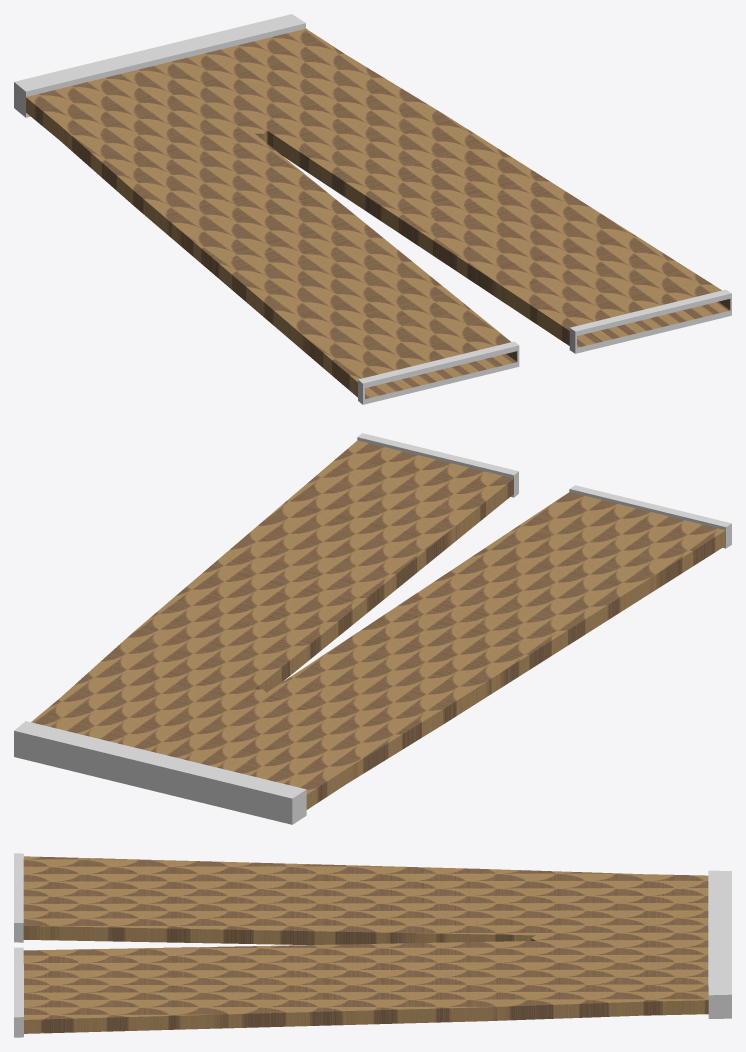
File: pants6.fbx
3 renders of one model, top to bottom at view 1: azimuth 30°, elevation 25°; view 2: azimuth 150°, elevation 25°; view 3: azimuth 270°, elevation 25°, orthographic. The views are drawn at different scales.
Parts seen in each view (by area): view 1: pants6; view 2: pants6; view 3: pants6.
Boxes of the visible parts, <box> form: pants6: <box>14,14,731,404</box>; pants6: <box>14,433,731,824</box>; pants6: <box>14,853,731,1037</box>.
Bounding box in the file's own units: 0.504 × 0.0342 × 0.9314.
